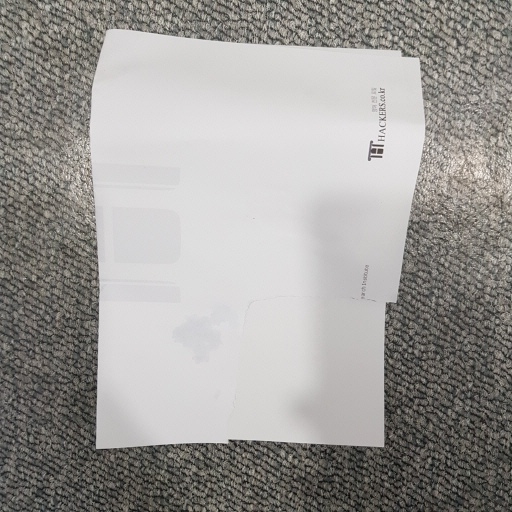Paper_3: (71, 17, 446, 507)
